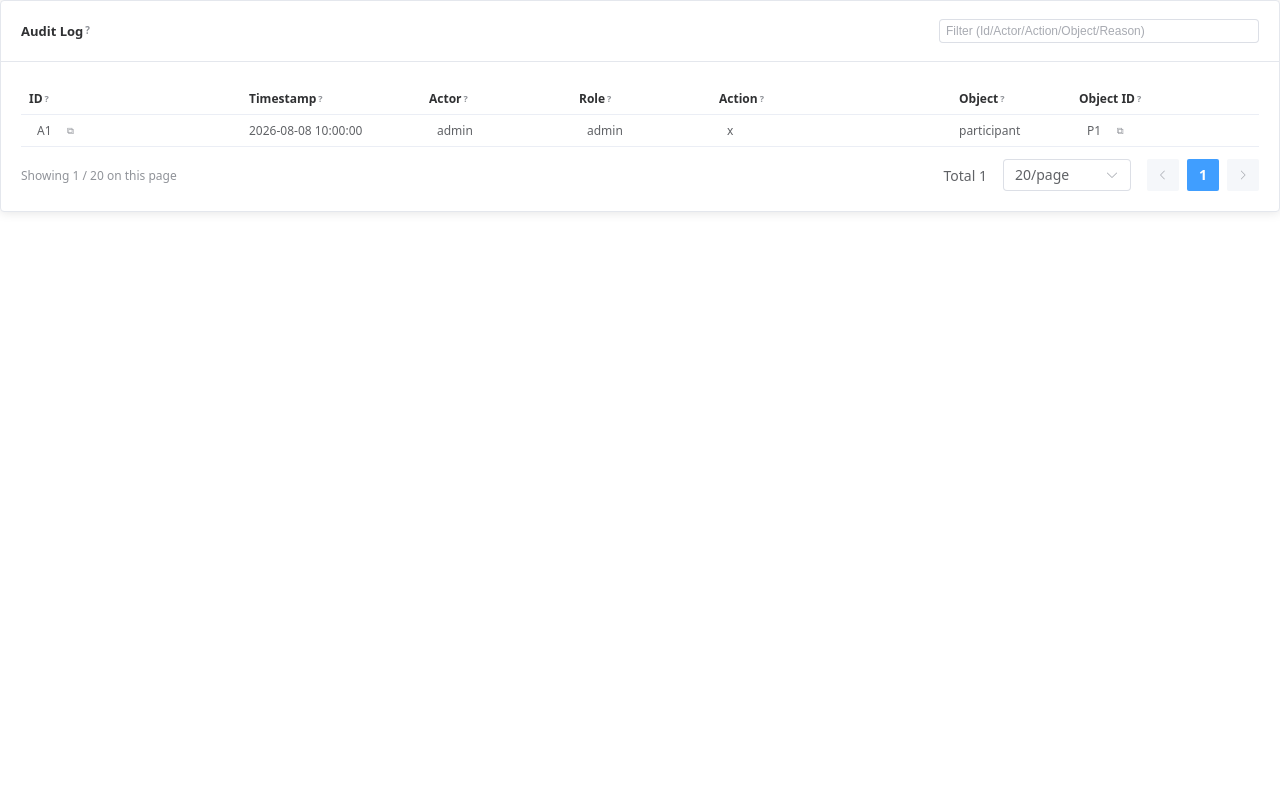
timestamps › Audit log: table and drawer
The width and height of the screenshot is (1280, 800).
Expected: the element that starts with "Timestamp" shows "2026-08-08 10:00:00", [249, 122, 362, 139]
Click the row "A1 ⧉ 2026-08-08 10:00:00 admin admin x participant P1 ⧉ —".
click(650, 131)  # box [21, 115, 1279, 147]
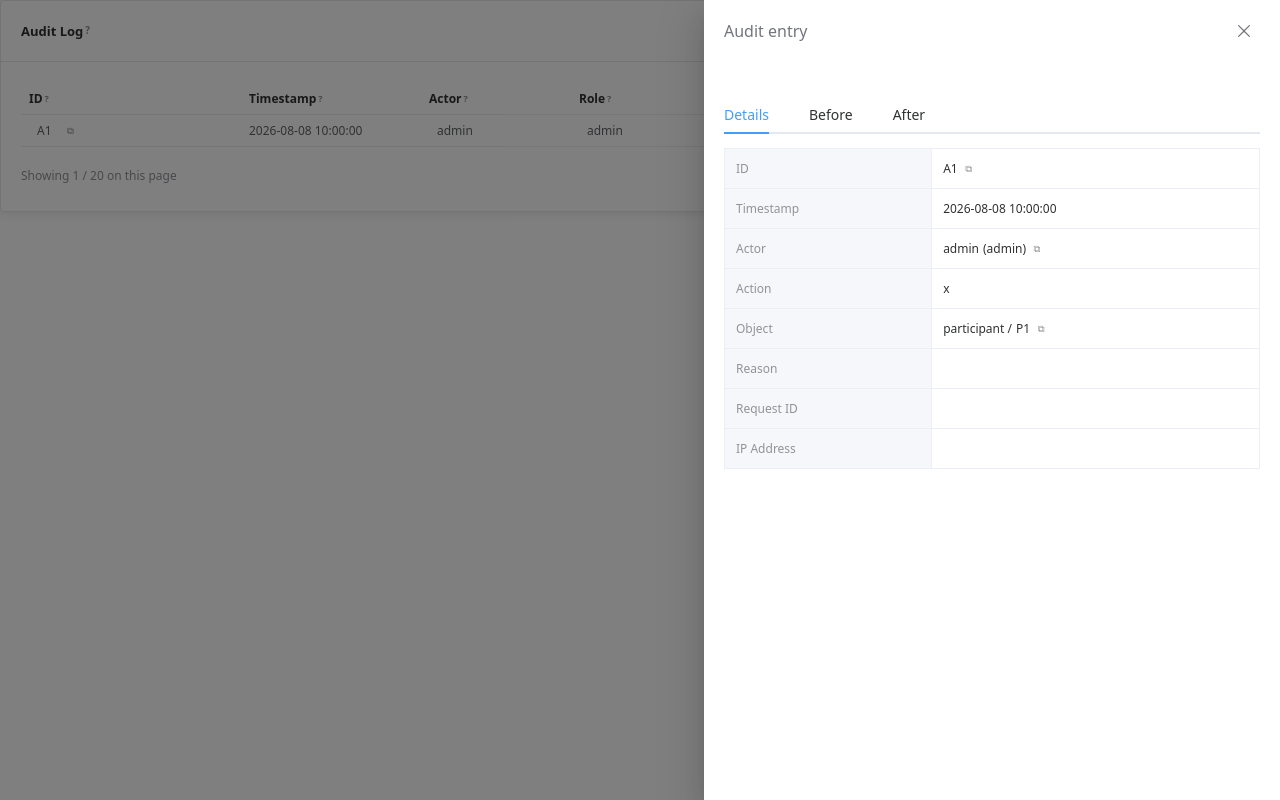
Now the dialog shows "2026-08-08 10:00:00", box [943, 200, 1056, 217]
